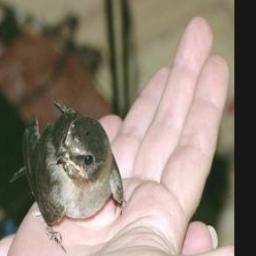Swallow: (6, 98, 126, 256)
